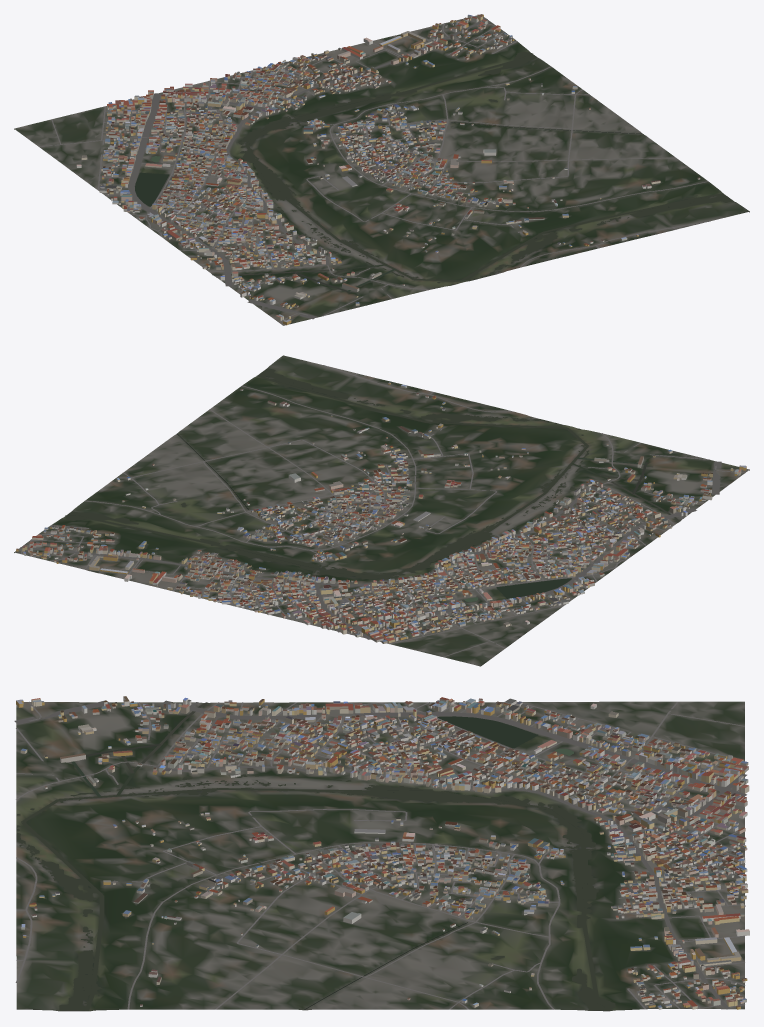
The picture shows the model from 3 angles, top to bottom: view 1: azimuth 30°, elevation 25°; view 2: azimuth 150°, elevation 25°; view 3: azimuth 270°, elevation 25°; orthographic projection. The views are drawn at different scales.
Parts seen in each view (by area): view 1: ground, buildings, roads, water; view 2: ground, buildings, roads, water; view 3: ground, buildings, roads, water.
Boxes of the visible parts, left/top/right/bottom form: ground: left=14, top=14, right=749, bottom=325; buildings: left=76, top=14, right=700, bottom=325; roads: left=38, top=16, right=709, bottom=322; water: left=135, top=34, right=732, bottom=292; ground: left=14, top=355, right=749, bottom=666; buildings: left=16, top=382, right=746, bottom=643; roads: left=20, top=365, right=744, bottom=657; water: left=64, top=368, right=679, bottom=601; ground: left=16, top=701, right=744, bottom=1011; buildings: left=16, top=696, right=749, bottom=1009; roads: left=14, top=700, right=746, bottom=1009; water: left=17, top=702, right=744, bottom=1011.
Bounding box in the file's own units: 1414 × 21.75 × 1416.
